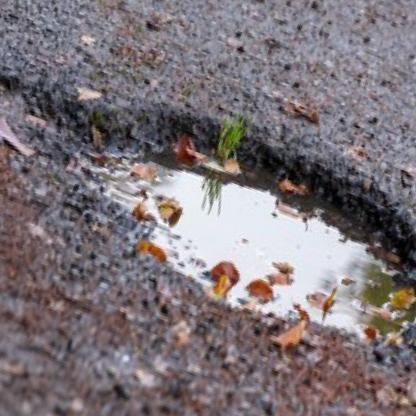pothole: (13, 60, 416, 399)
